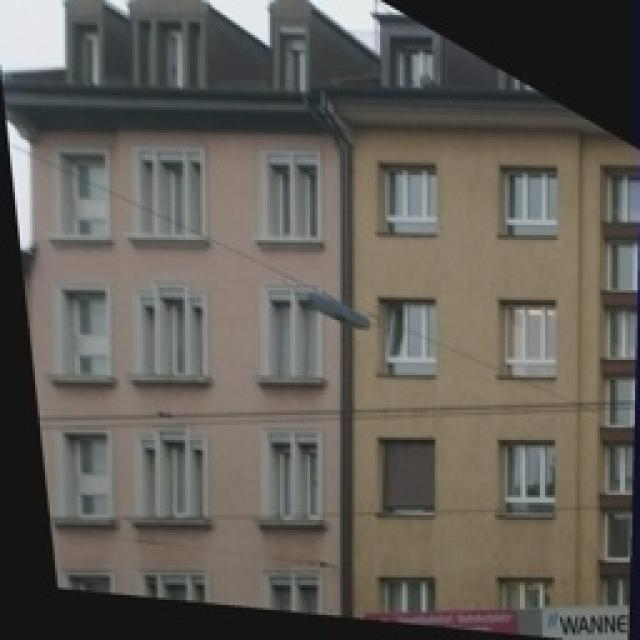building: (0, 0, 348, 618), (355, 15, 640, 640)
